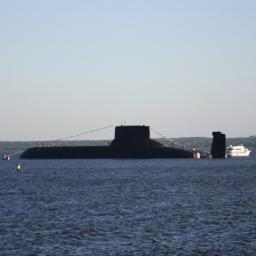submarine: (17, 125, 227, 160)
